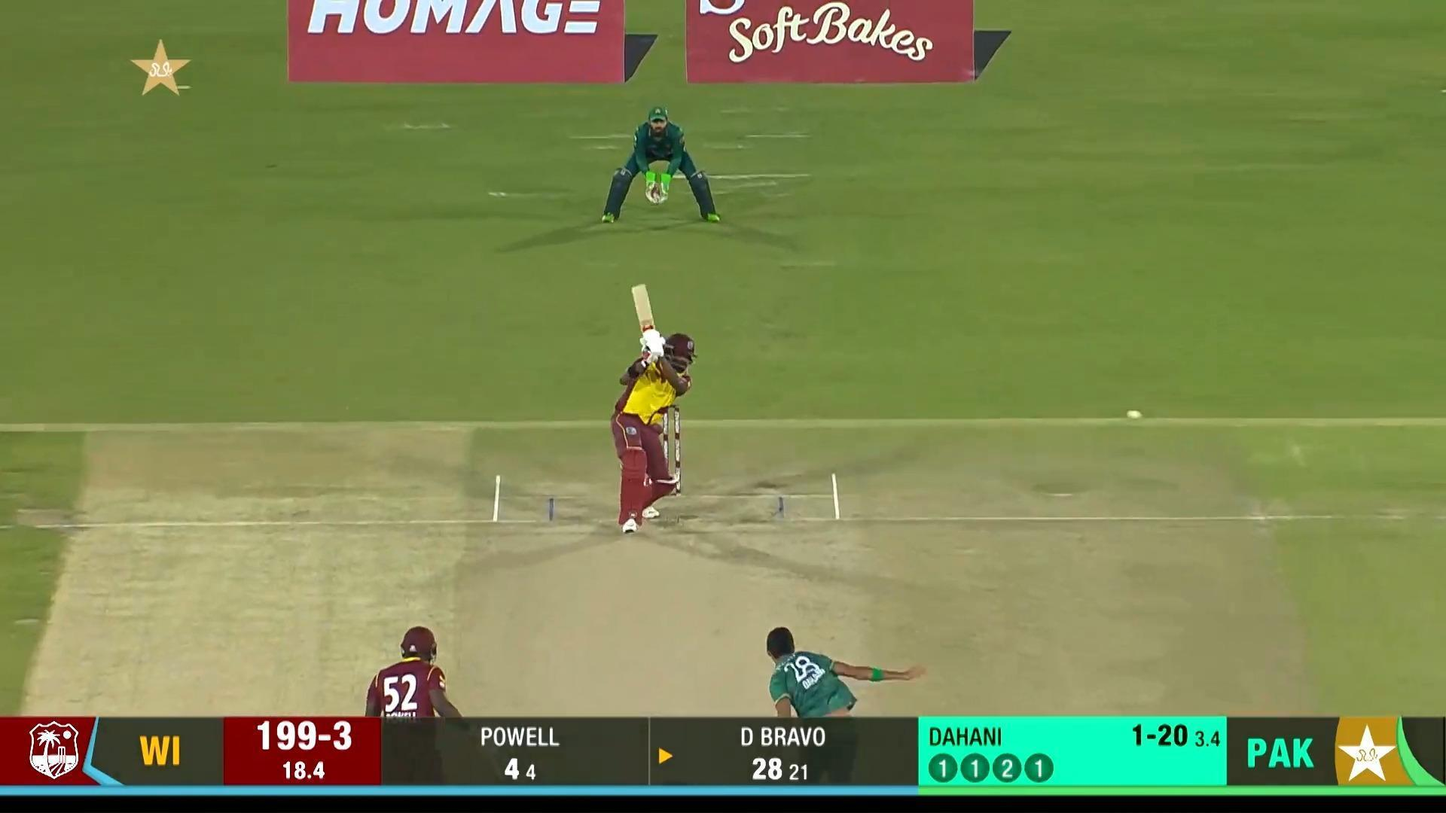BM 1: (612, 283, 698, 534)
BO: (767, 626, 928, 716)
